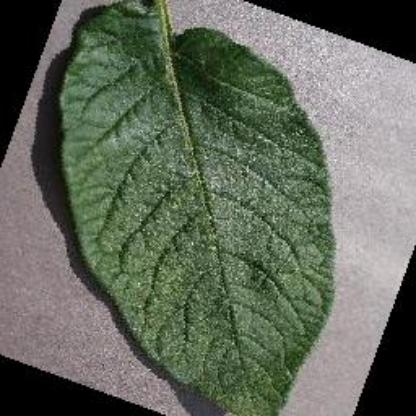Healthy-plant: (55, 1, 335, 415)
